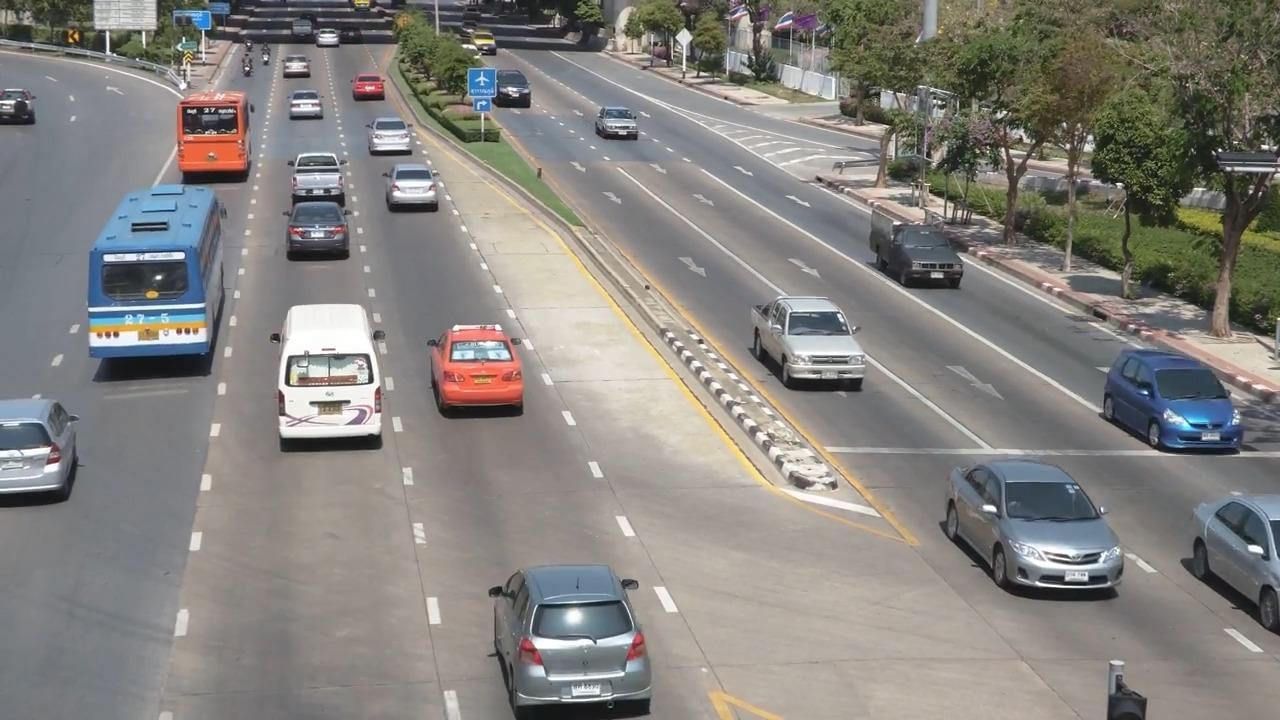CAR: (482, 536, 675, 720), (932, 457, 1134, 607), (259, 292, 407, 463), (1100, 329, 1251, 469), (747, 277, 880, 407), (421, 298, 539, 431), (1188, 495, 1280, 643), (0, 386, 85, 526), (861, 202, 974, 302), (272, 195, 367, 272), (375, 162, 451, 227), (285, 138, 353, 201), (361, 109, 426, 160), (588, 97, 652, 148), (0, 85, 45, 152), (278, 86, 339, 132), (482, 52, 530, 104), (345, 64, 396, 111), (271, 56, 323, 100), (340, 14, 379, 49), (313, 25, 349, 55)
HGV_BUS: (78, 172, 236, 391), (160, 83, 259, 188)
MOTOR: (251, 34, 281, 75), (232, 48, 256, 81)
